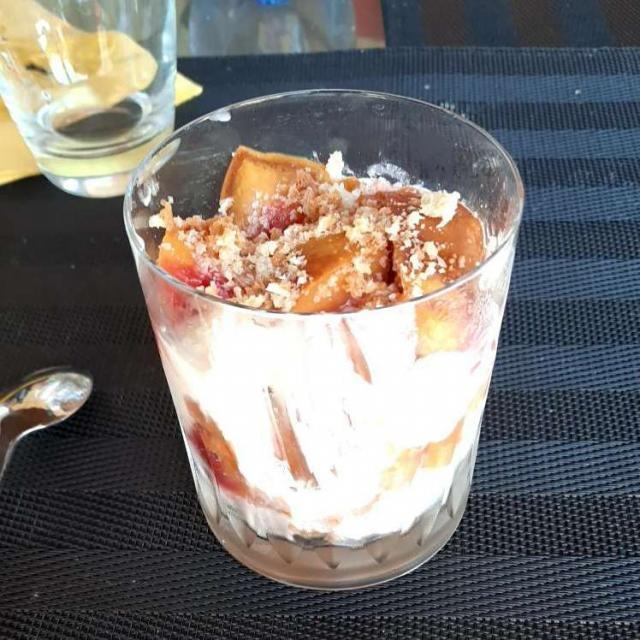nectarine: (155, 155, 491, 337)
tiramisu: (155, 302, 504, 536)
